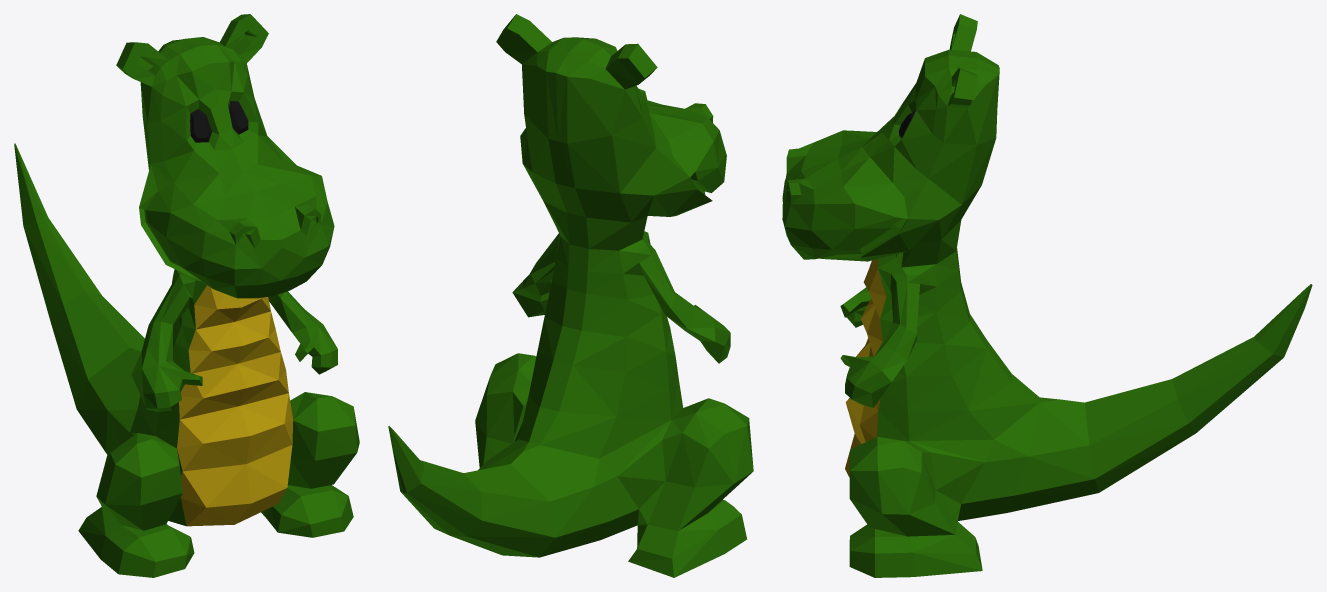
File: Dino.FBX
3 views of the same model, side by side, from view 1: azimuth 30°, elevation 25°; view 2: azimuth 150°, elevation 25°; view 3: azimuth 270°, elevation 25° (orthographic). The views are drawn at different scales.
Parts seen in each view (by area): view 1: Dino; view 2: Dino; view 3: Dino.
Boxes of the visible parts, x1,y1,x2,y2 form: Dino: (14, 14, 359, 577); Dino: (388, 14, 753, 577); Dino: (782, 14, 1312, 577).
Bounding box in the file's own units: 0.1898 × 0.3466 × 0.346.
